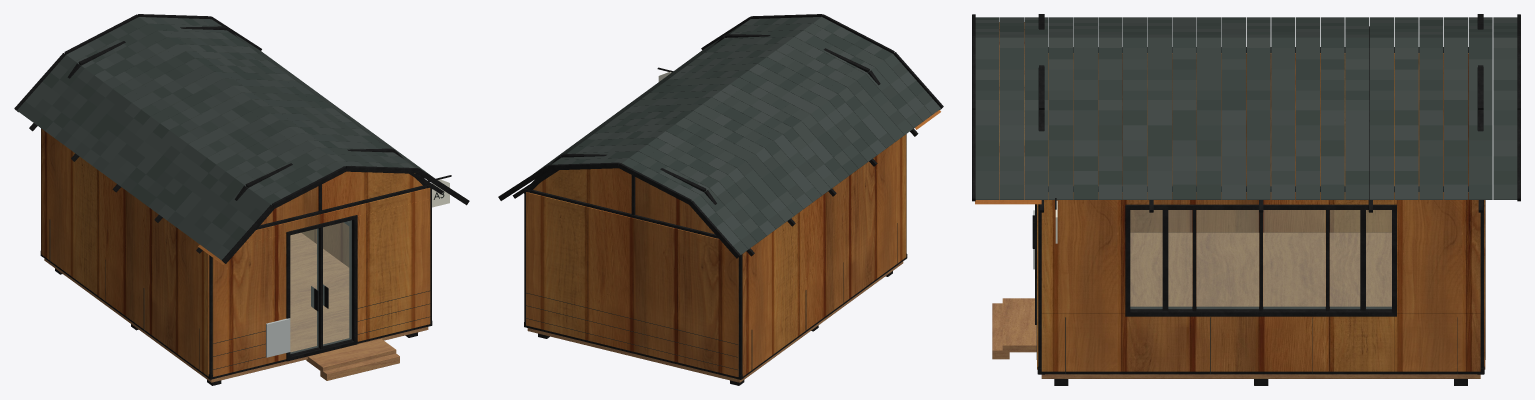
3 views of the same model, side by side, from view 1: azimuth 30°, elevation 25°; view 2: azimuth 150°, elevation 25°; view 3: azimuth 270°, elevation 25° (orthographic). The views are drawn at different scales.
Visible parts, largest first — view 1: A3_ROOF.002, A3_WALLS.002, A3_UNVERIFIED_CLOSURES.002, A3_FRAMES_AND_DETAILS.002, A3_FLOOR_AND_STEPS.002, A3_GLAZING.002; view 2: A3_UNVERIFIED_CLOSURES.002, A3_ROOF.002, A3_FRAMES_AND_DETAILS.002, A3_FLOOR_AND_STEPS.002; view 3: A3_ROOF.002, A3_WALLS.002, A3_GLAZING.002, A3_FLOOR_AND_STEPS.002, A3_FRAMES_AND_DETAILS.002, A3_UNVERIFIED_CLOSURES.002.
Part boxes in pixels (box(x1,y1,x2,y2)): A3_ROOF.002: box(14, 14, 469, 263); A3_WALLS.002: box(49, 171, 430, 376); A3_UNVERIFIED_CLOSURES.002: box(41, 129, 209, 376); A3_FRAMES_AND_DETAILS.002: box(40, 26, 451, 385); A3_FLOOR_AND_STEPS.002: box(44, 233, 428, 382); A3_GLAZING.002: box(290, 220, 351, 353); A3_UNVERIFIED_CLOSURES.002: box(526, 134, 906, 376); A3_ROOF.002: box(498, 14, 943, 258); A3_FRAMES_AND_DETAILS.002: box(524, 34, 940, 385); A3_FLOOR_AND_STEPS.002: box(527, 261, 903, 382); A3_ROOF.002: box(972, 14, 1520, 212); A3_WALLS.002: box(1037, 192, 1480, 373); A3_GLAZING.002: box(1130, 210, 1391, 308); A3_FLOOR_AND_STEPS.002: box(992, 232, 1480, 378); A3_FRAMES_AND_DETAILS.002: box(975, 14, 1485, 385); A3_UNVERIFIED_CLOSURES.002: box(1048, 53, 1485, 369).
Size of the model in its own units: 5.04 by 4.01 by 7.
Materials: 12 (3 with a texture image).
